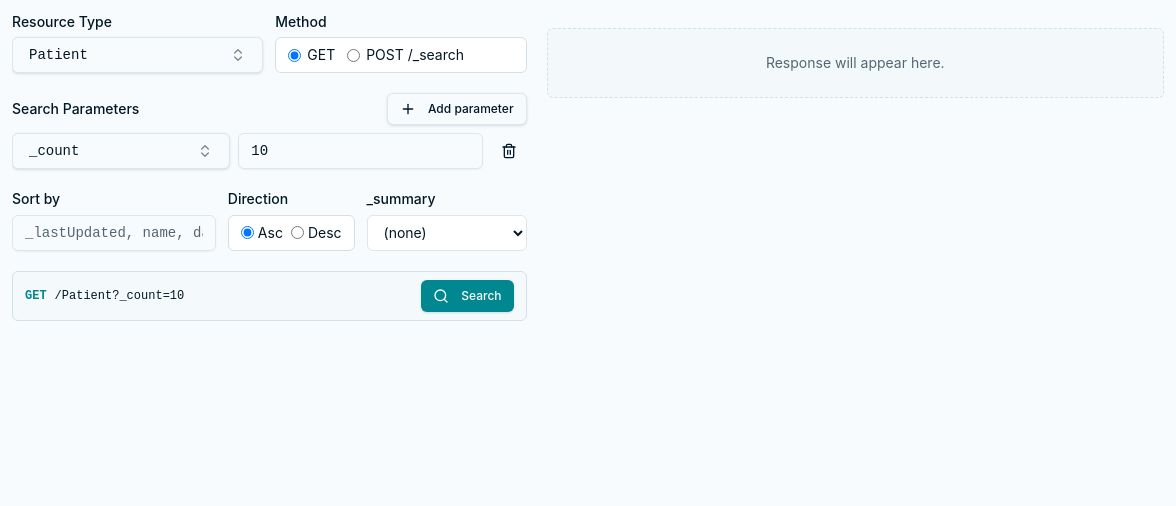
SearchPanel › renders result rows with summaries and expands a resource on click
Click the button "Search".
click(467, 296)  # box [421,280,514,312]
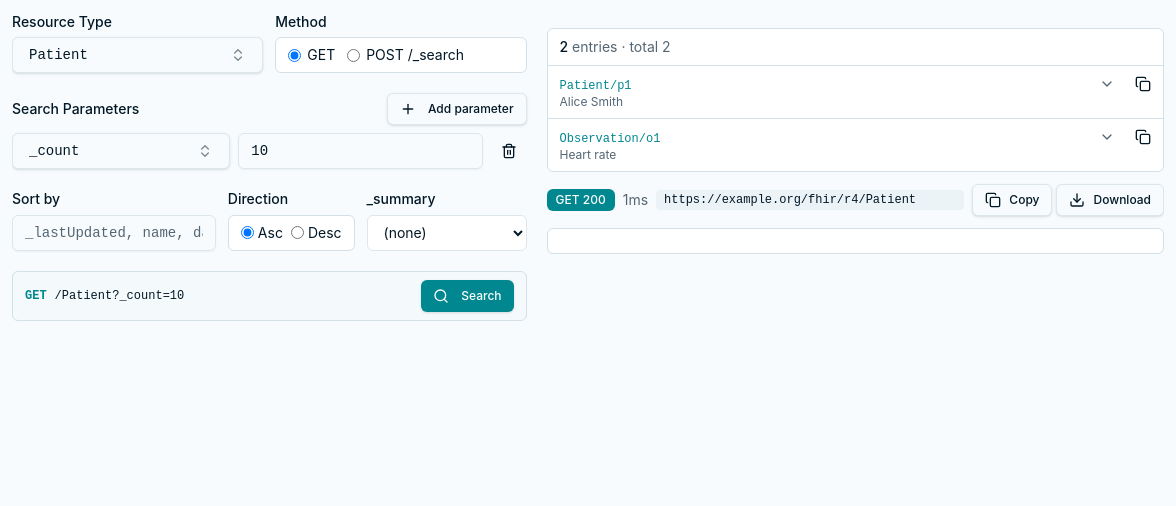
Now the text "Alice Smith" is shown, box [560,94,632,110]
Now the button "Observation/o1 Heart rate" is shown, box [548,119,1127,171]
Now the text "Heart rate" is shown, box [560,147,616,162]
Click the button "Patient/p1 Alice Smith".
click(585, 86)  # box [548,66,1127,118]
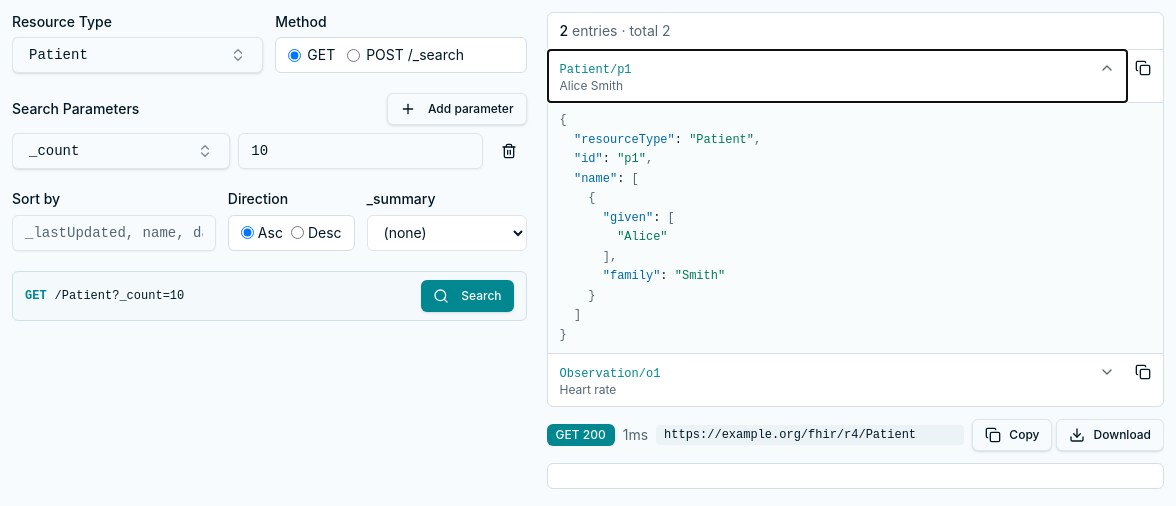
Now the button "Patient/p1 Alice Smith" is expanded, box [548,50,1127,102]
Now the text "\"p1\"" is shown once, box [617,152,646,166]
